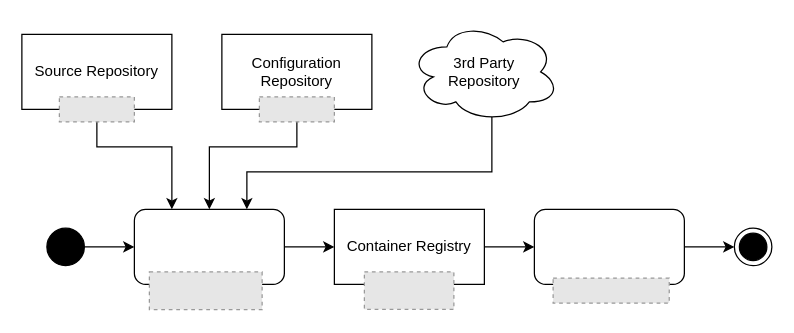
The diagram is 794 pixels wide and 333 high, and some of its shapes have lost their labels. Grey dashed boxes stand in for pictures. The centre of each missing label's shape, as x and y in pixels:
"Build Containers from Images" belongs at pixel 608 246.
"Build Images" belongs at pixel 208 246.
